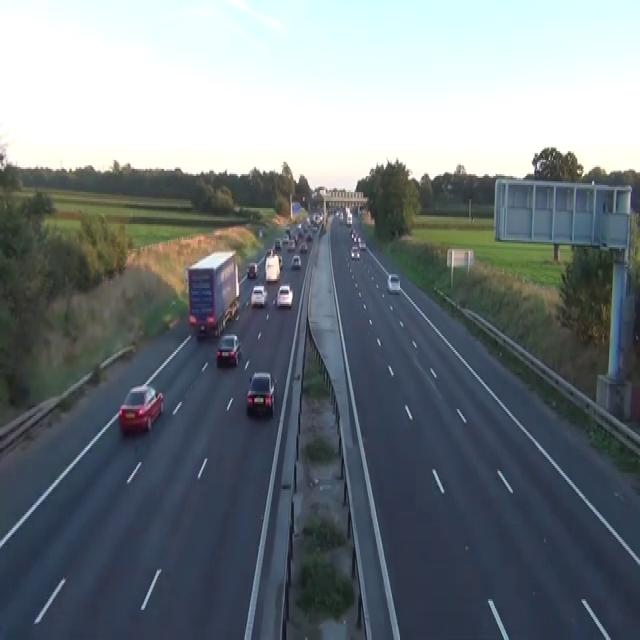Car: (118, 384, 163, 434), (246, 372, 275, 416), (216, 332, 241, 367), (276, 284, 293, 308), (250, 284, 267, 308), (386, 272, 400, 293), (225, 302, 239, 322), (246, 261, 258, 279), (273, 251, 283, 270), (291, 254, 301, 268), (350, 246, 360, 260), (287, 238, 295, 251), (265, 247, 274, 258), (358, 238, 366, 249), (278, 254, 283, 270), (274, 238, 281, 249), (319, 224, 326, 235), (300, 242, 307, 252), (282, 234, 288, 243), (305, 233, 312, 240), (339, 215, 343, 224), (259, 230, 262, 237)
Truck: (185, 249, 239, 338), (264, 249, 280, 281)
